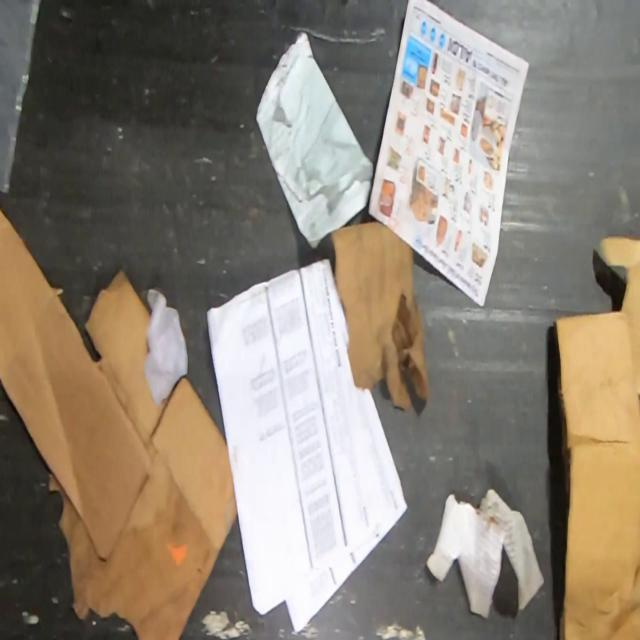cardboard: (46, 267, 239, 639), (0, 209, 154, 563), (552, 233, 640, 640)
soft_plastic: (0, 0, 45, 196)
